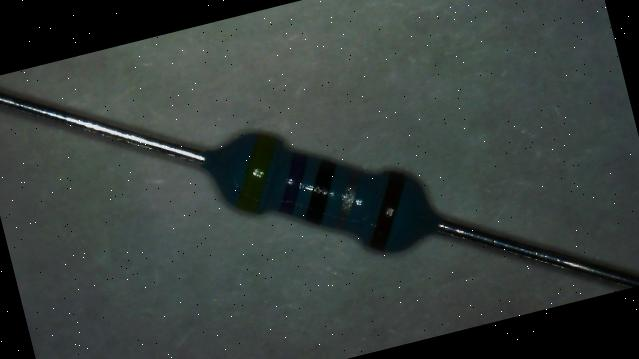black: (292, 156, 347, 226)
brown: (355, 171, 420, 252)
resistor: (189, 84, 456, 302)
silver: (324, 167, 370, 230)
violet: (267, 150, 317, 215)
yellow: (221, 130, 291, 216)
